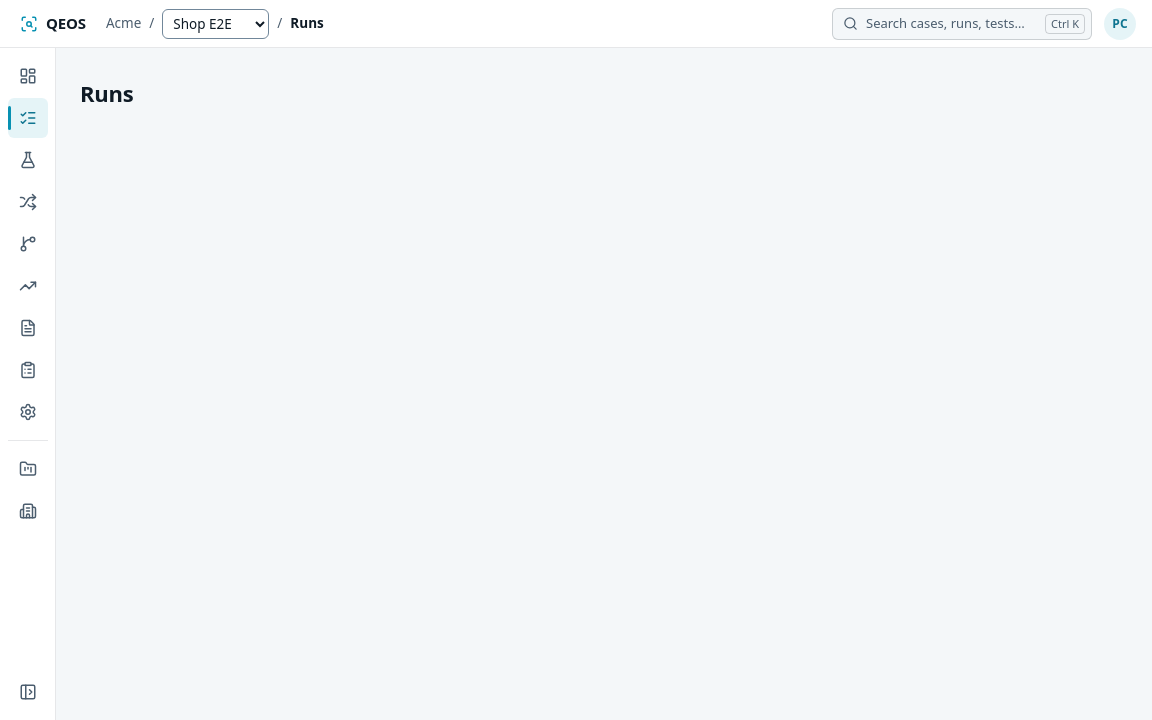
Test: breadcrumb › the project switcher lives in the breadcrumb and opens the chosen project's overview
This screenshot has width=1152, height=720.
Select "API" in the dropdown named "Project" at (216, 24), box [162, 8, 269, 38]
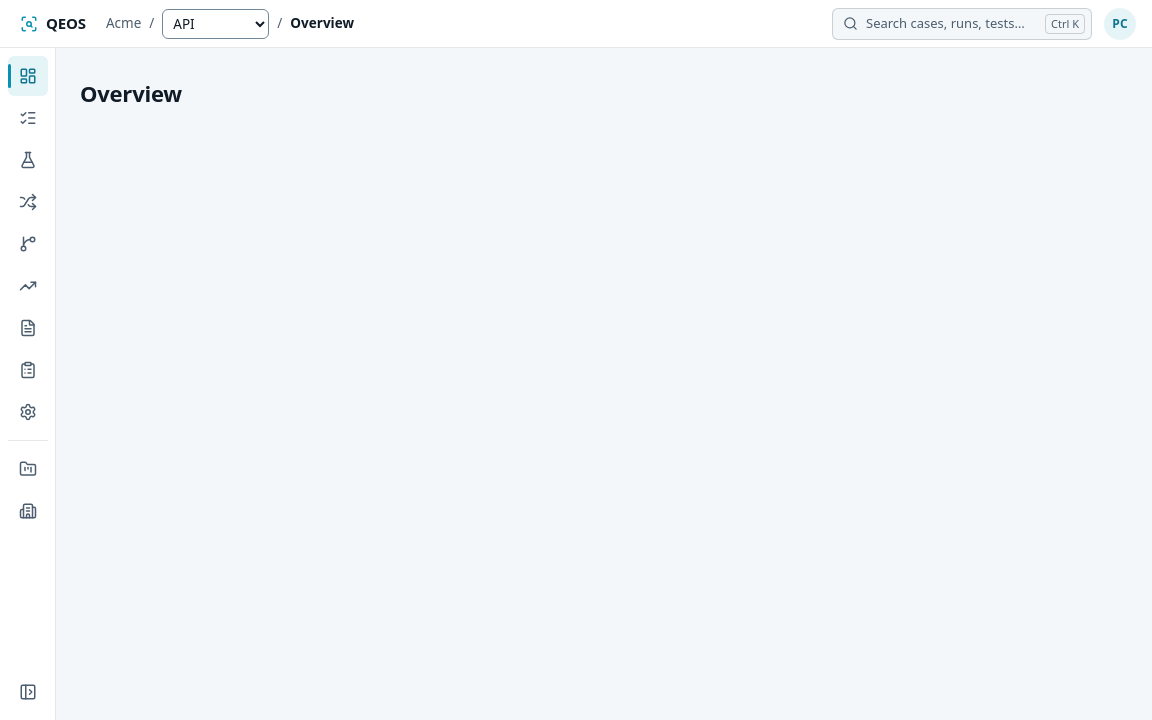
Check: the heading "Overview" is shown, box [80, 80, 182, 108]
